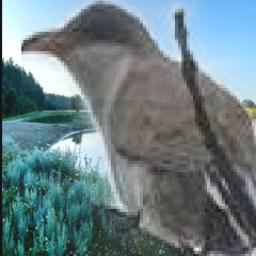Cuckoo: (21, 0, 256, 256)
